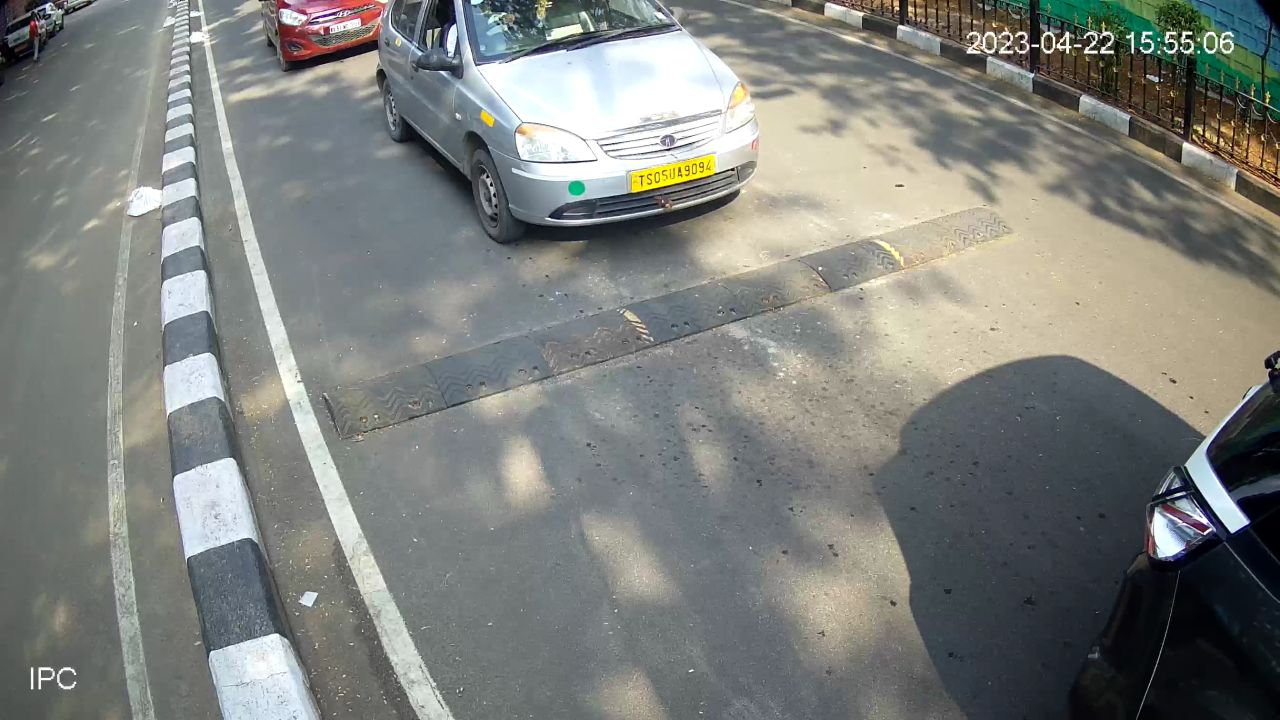license_plate: (619, 150, 723, 201)
